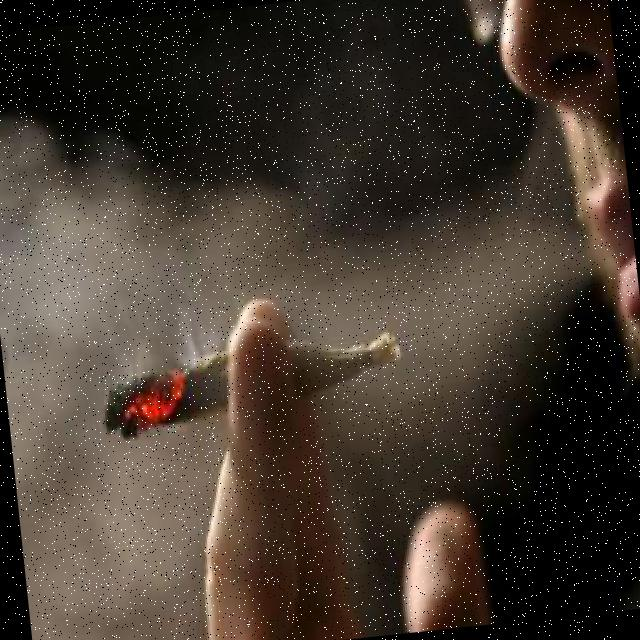fire: (80, 328, 201, 443)
